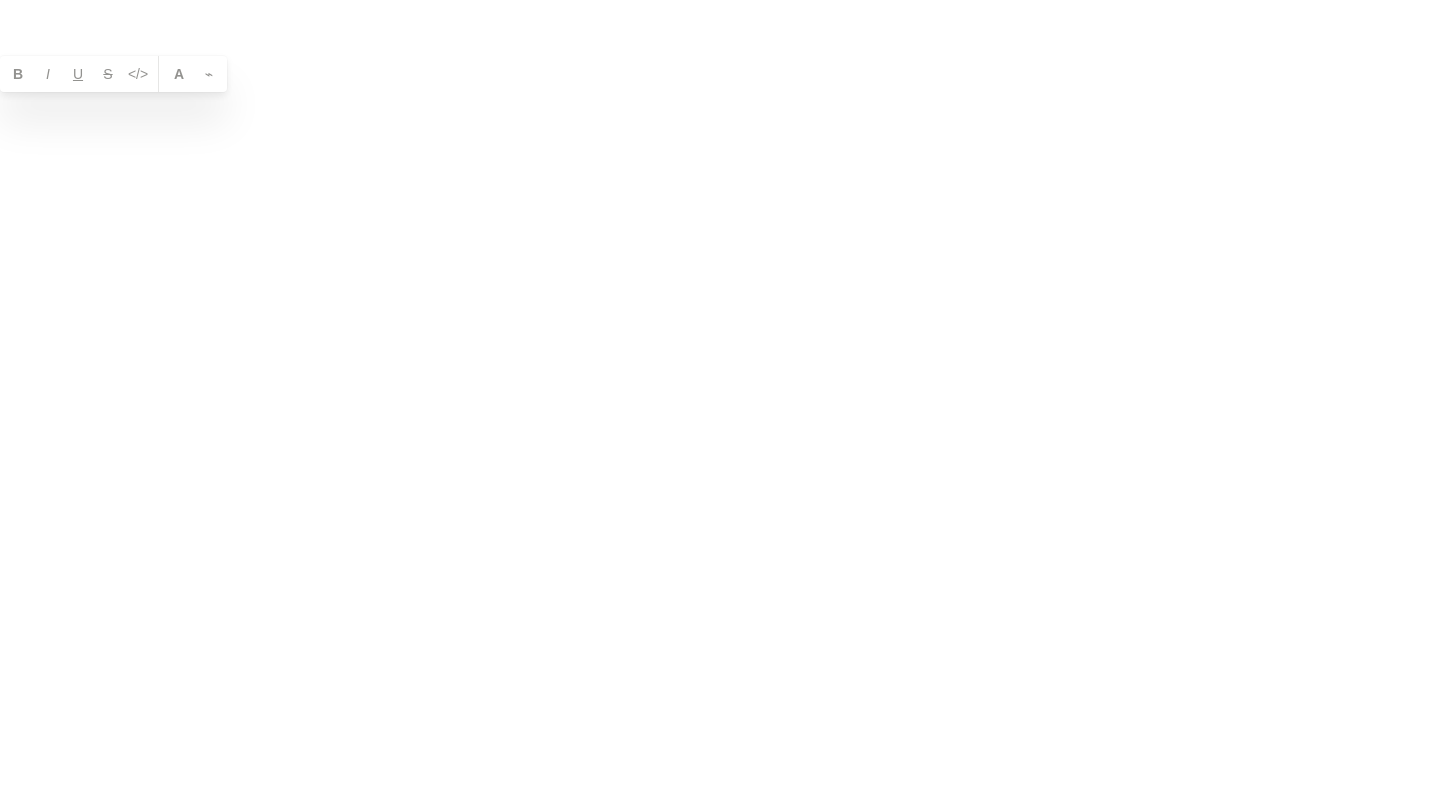
Scenario: SelectionToolbar › when a formatting button is hovered › to be: a shortcut tooltip is shown
The width and height of the screenshot is (1440, 810).
Hover over the button named "Bold" at (18, 74), box [6,62,30,86]
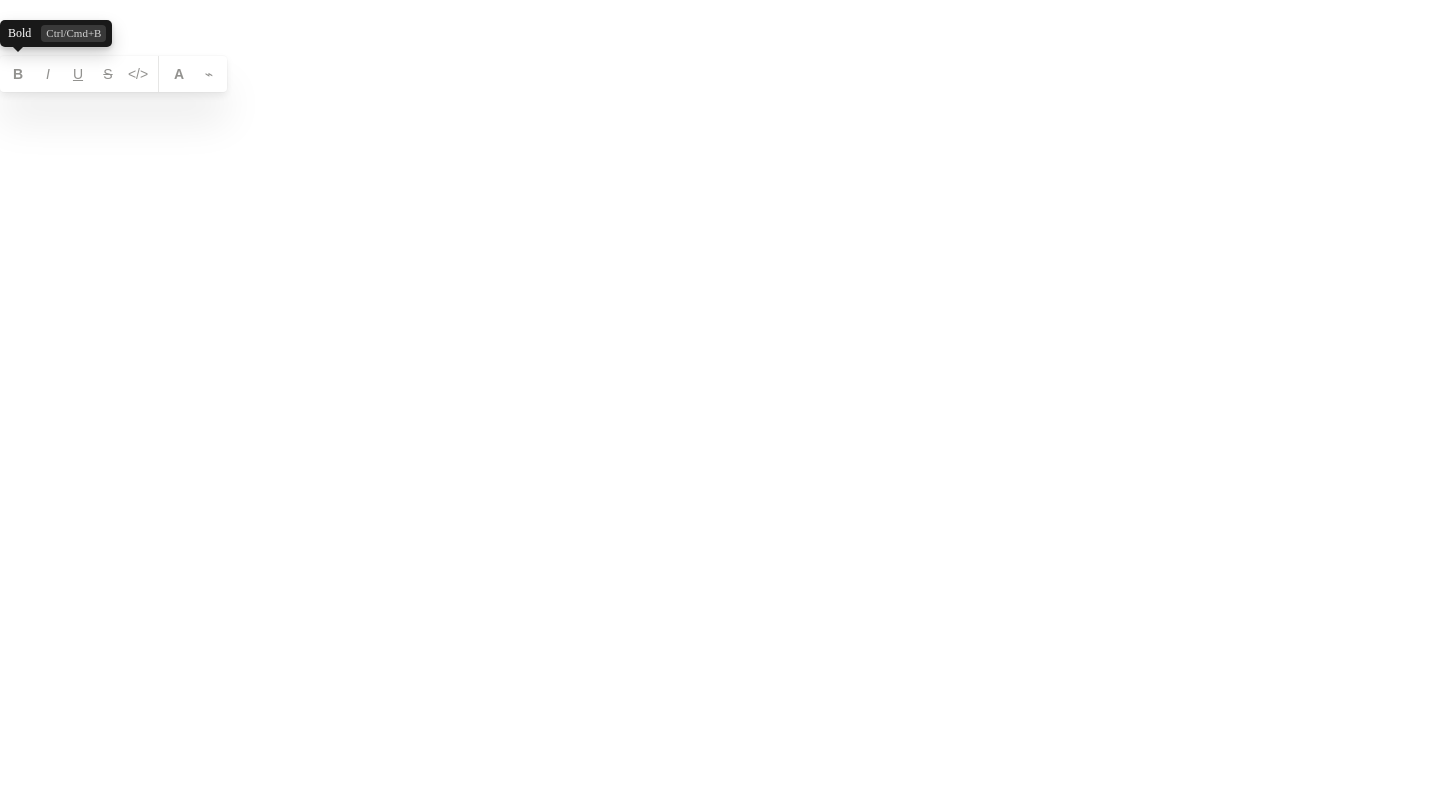
Check: the tooltip shows "Bold", box [8,26,31,40]
Check: the tooltip shows "Ctrl/Cmd+B", box [46,27,101,39]
